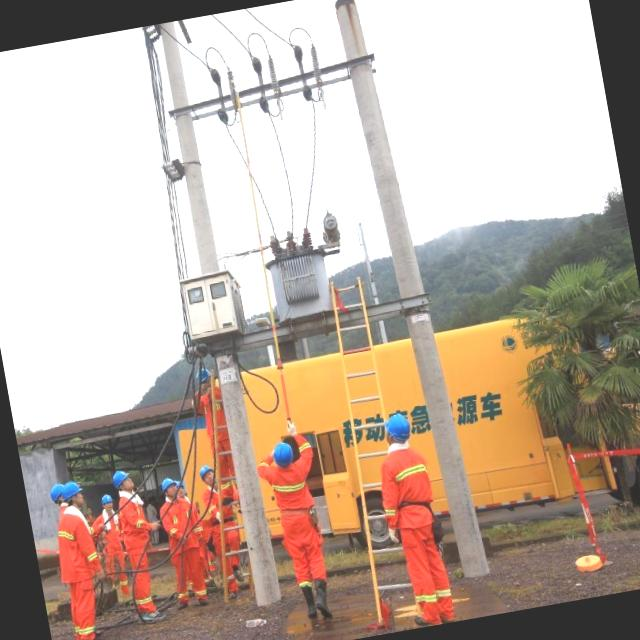helmet: (378, 408, 420, 448), (266, 438, 300, 473), (58, 478, 82, 505), (109, 464, 132, 491), (157, 472, 180, 496), (196, 364, 217, 386), (98, 492, 114, 512)
vest: (259, 462, 330, 546), (0, 265, 43, 361), (379, 446, 436, 518), (160, 492, 208, 570), (124, 497, 154, 549), (200, 388, 229, 434), (98, 512, 120, 548)
